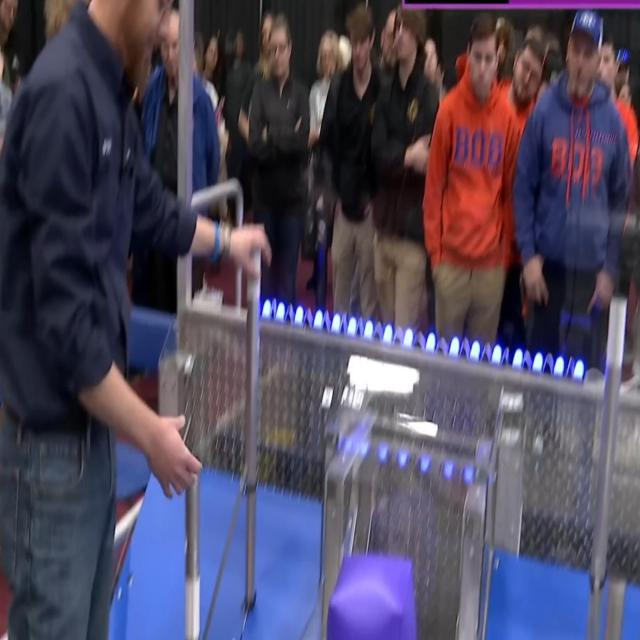frc_cube: (327, 553, 425, 640)
